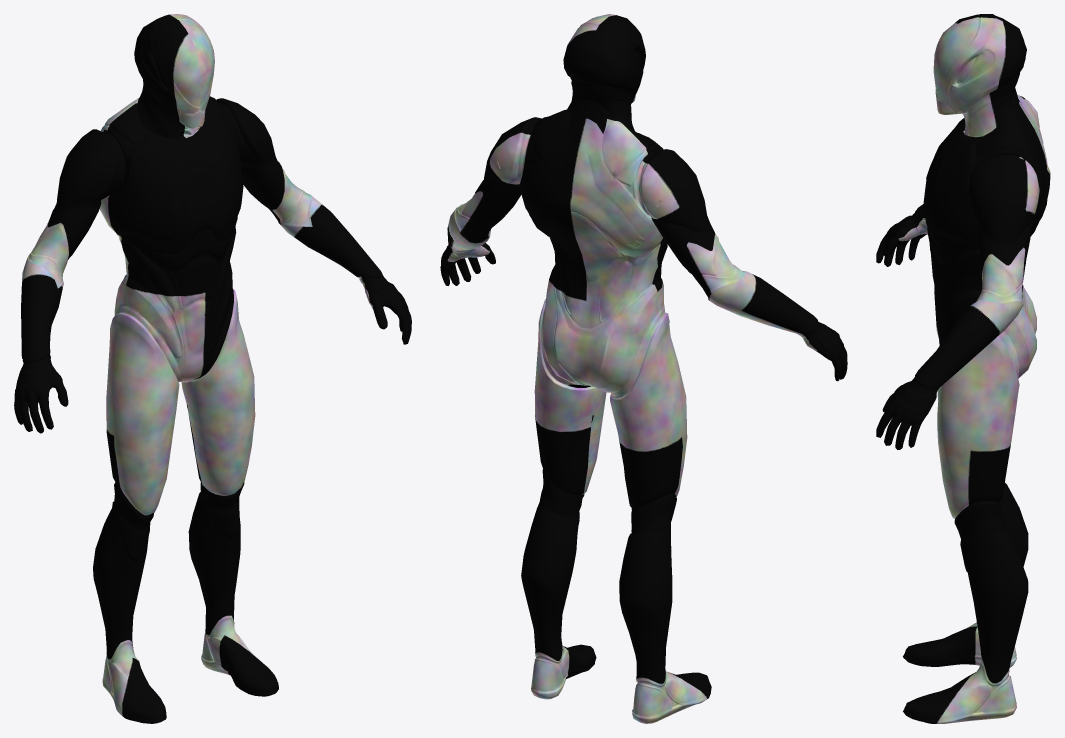
The picture shows the model from 3 angles, left to right: view 1: azimuth 30°, elevation 25°; view 2: azimuth 150°, elevation 25°; view 3: azimuth 270°, elevation 25°; orthographic projection. The views are drawn at different scales.
Visible parts, largest first — view 1: SKM_Manny_LOD3; view 2: SKM_Manny_LOD3; view 3: SKM_Manny_LOD3.
Boxes of the visible parts, left/top/right/bottom form: SKM_Manny_LOD3: left=14, top=14, right=411, bottom=723; SKM_Manny_LOD3: left=440, top=14, right=847, bottom=723; SKM_Manny_LOD3: left=876, top=14, right=1050, bottom=723.
Size of the model in its own units: 111 by 181 by 42.43.
Materials: 1 (1 with a texture image).
